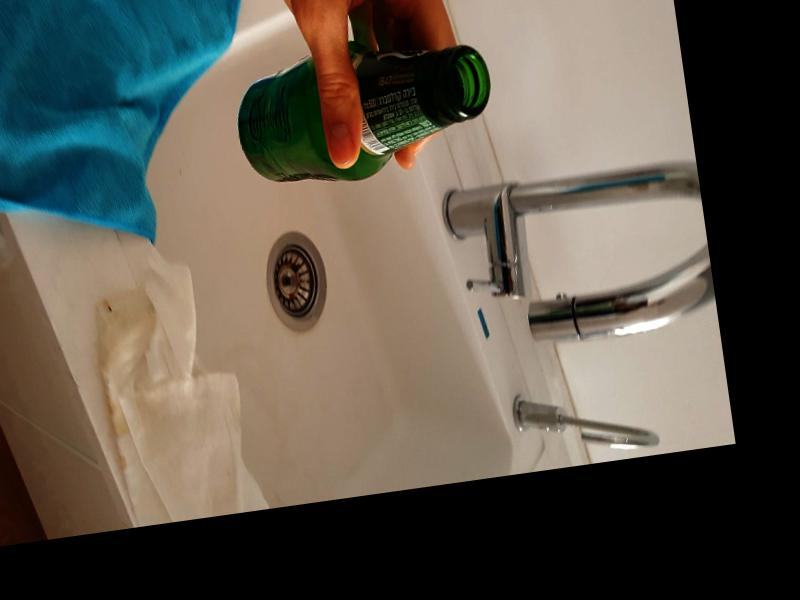Beer: (227, 25, 500, 197)
